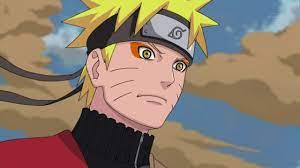Naruto: (86, 1, 199, 130)
